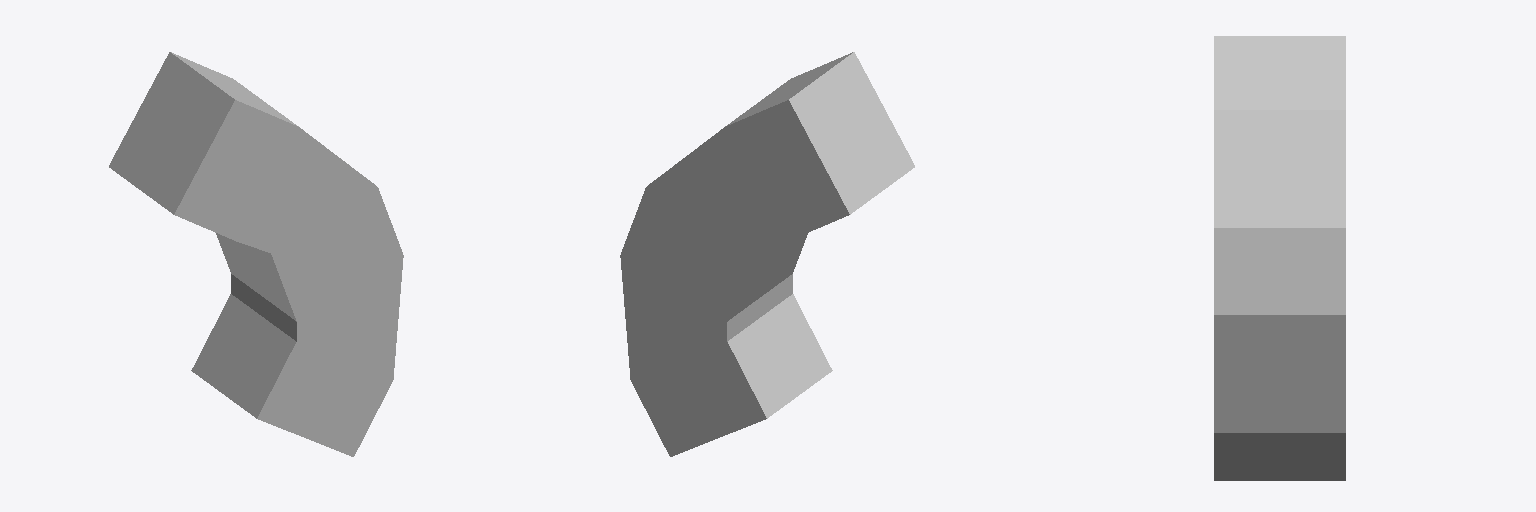
The model's file is maya_game_sausage_wiggle_lefthanded_18.obj.
3 renders of one model, left to right at view 1: azimuth 30°, elevation 25°; view 2: azimuth 150°, elevation 25°; view 3: azimuth 270°, elevation 25°, orthographic.
Visible parts, largest first — view 1: pCube1; view 2: pCube1; view 3: pCube1.
Boxes of the visible parts, <box> form: pCube1: <box>109,52,403,456</box>; pCube1: <box>620,52,914,456</box>; pCube1: <box>1214,36,1345,480</box>.
Bounding box in the file's own units: 2.02 × 3.25 × 1.